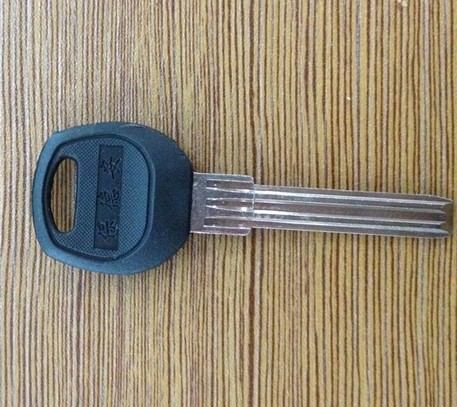key: (26, 118, 455, 279)
